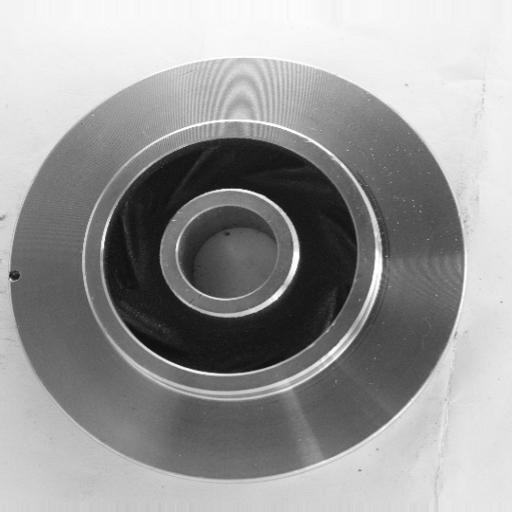pit: (2, 265, 29, 288)
unpolished_casting: (9, 54, 467, 483)
